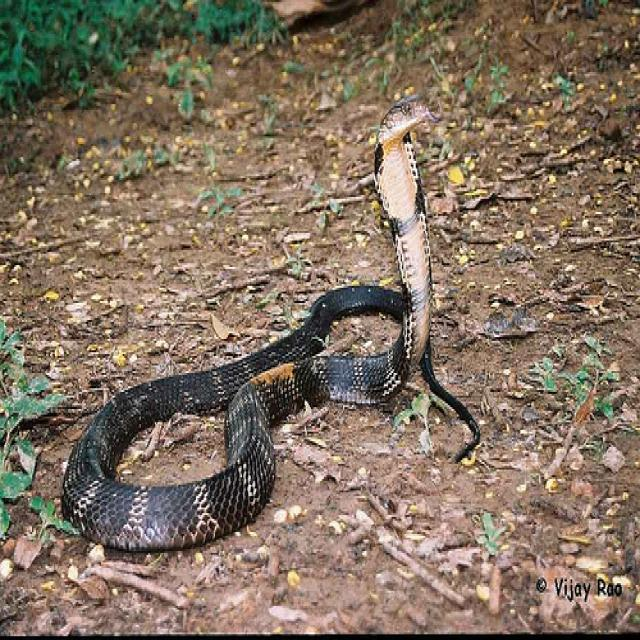Snake: (59, 92, 486, 558)
